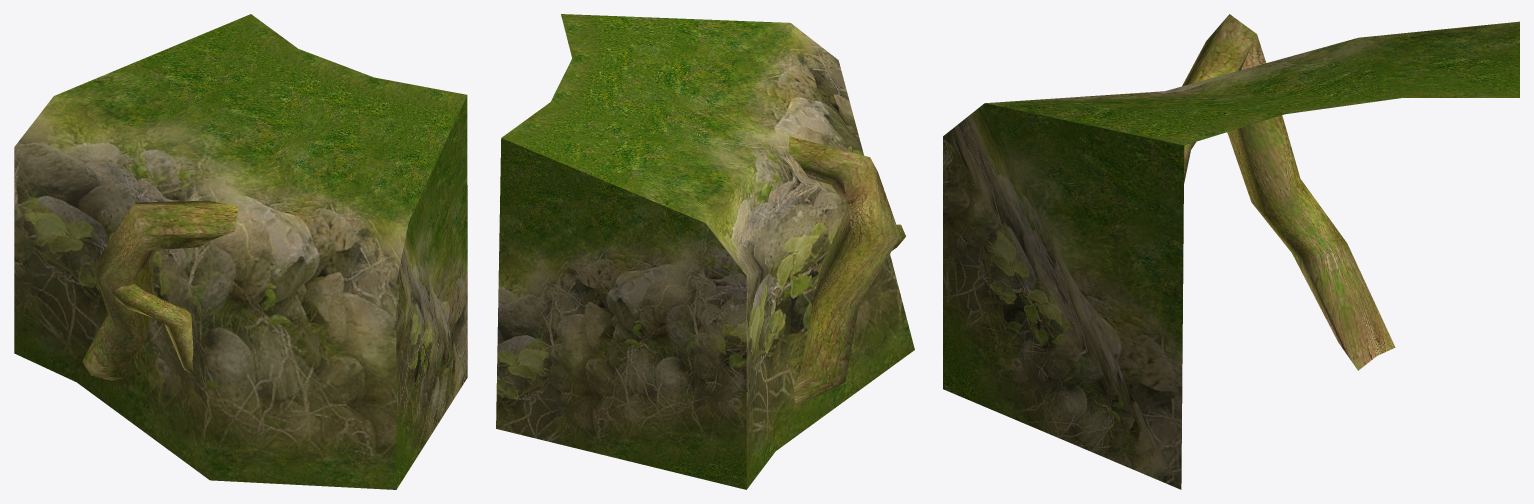
Rendered from n_tilewallA_1.glb.
The picture shows the model from 3 angles, left to right: view 1: azimuth 30°, elevation 25°; view 2: azimuth 150°, elevation 25°; view 3: azimuth 270°, elevation 25°; orthographic projection. The views are drawn at different scales.
Parts seen in each view (by area): view 1: n_tilewallA_1; view 2: n_tilewallA_1; view 3: n_tilewallA_1.
Part boxes in pixels (box(x1,y1,x2,y2)): n_tilewallA_1: box(14, 14, 467, 489); n_tilewallA_1: box(496, 14, 914, 489); n_tilewallA_1: box(943, 14, 1519, 489).
Bounding box in the file's own units: 4.4 × 3.41 × 5.17.
2 materials, 2 textured.
